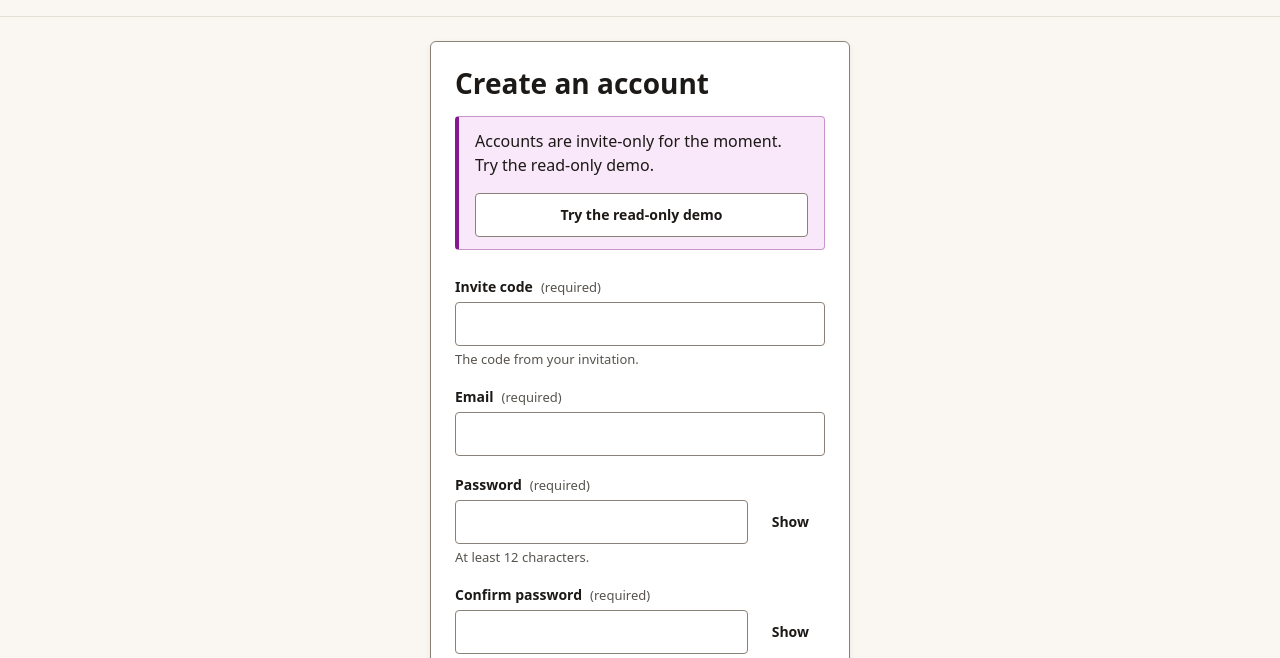
the sign-up page (T03 criterion 3, D10) › creates the account and lands on /account with its status
Type "fake-invite-0000-zz" into the field labelled "Invite code" at (640, 324), box x1=455 y1=302 x2=825 y2=346
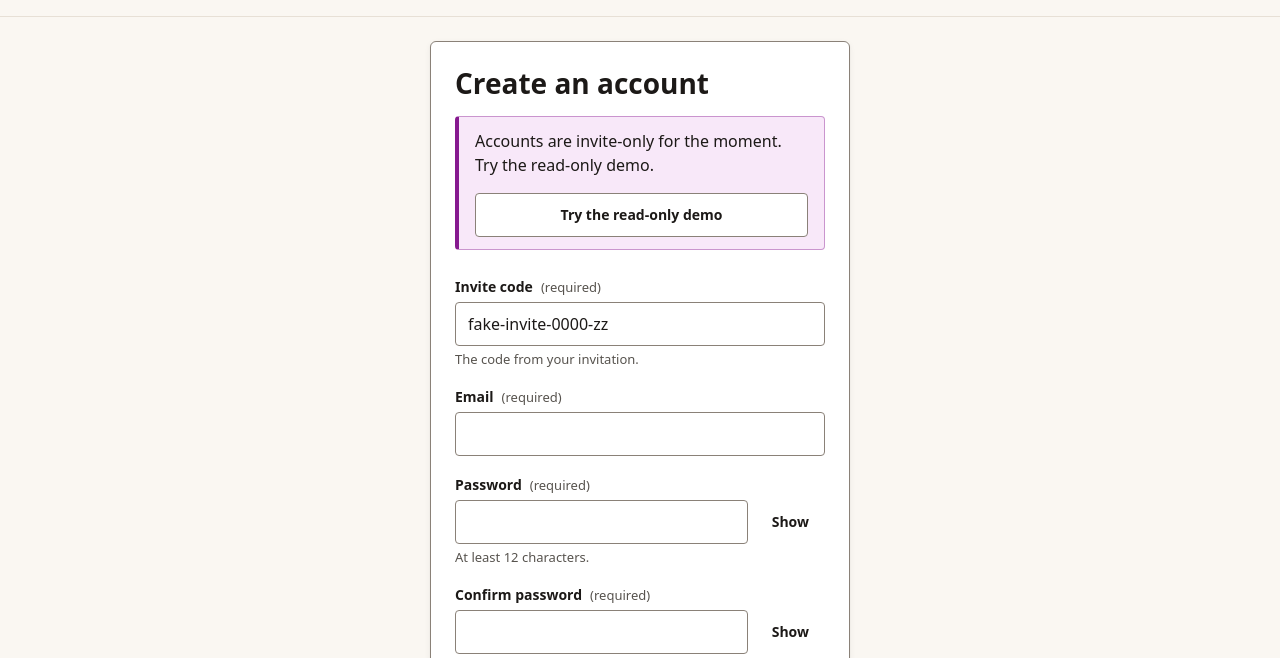
Type "newcomer@example.com" into the field labelled "Email" at (640, 434), box x1=455 y1=412 x2=825 y2=456
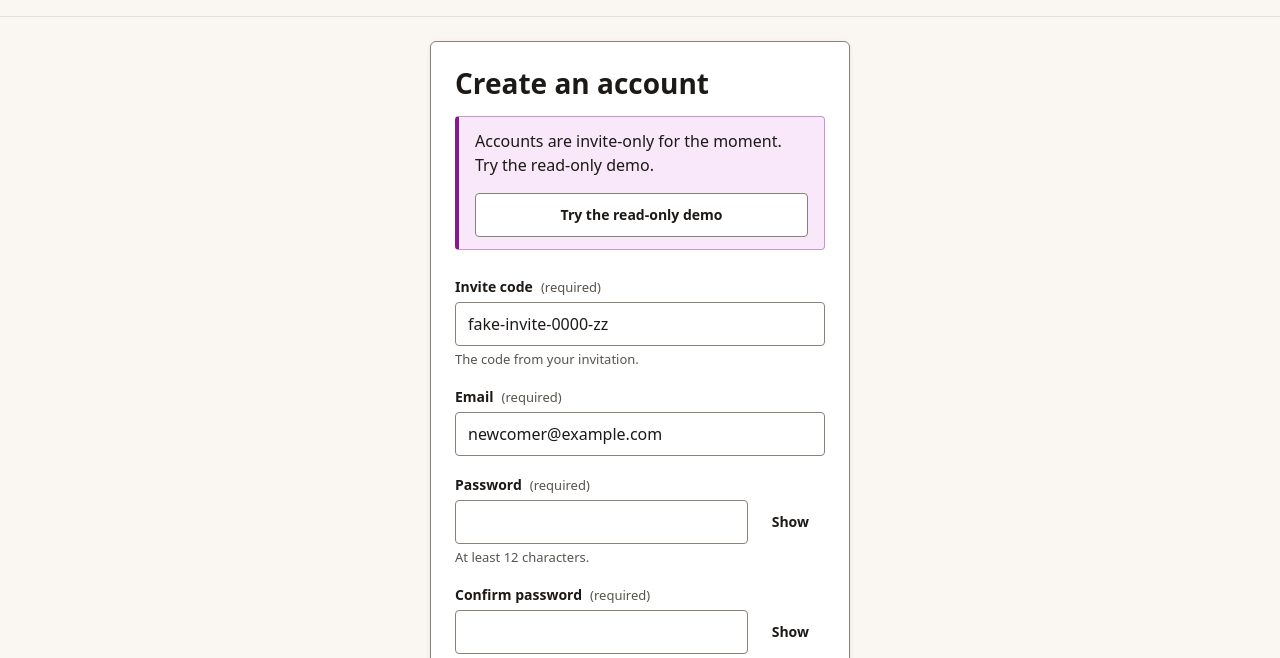
Type "fake-password-0000-ok" into the password field labelled "Password" at (601, 522), box x1=455 y1=500 x2=748 y2=544
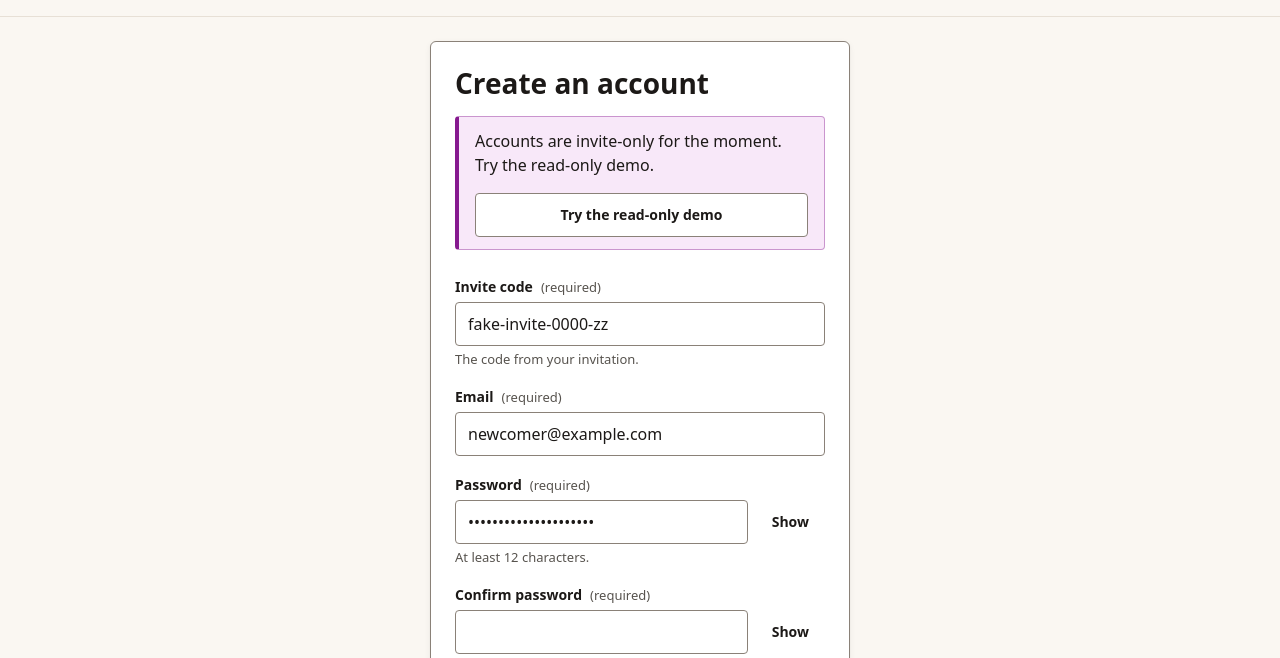
Type "fake-password-0000-ok" into the password field labelled "Confirm password" at (601, 632), box x1=455 y1=610 x2=748 y2=654
(page scrolled)
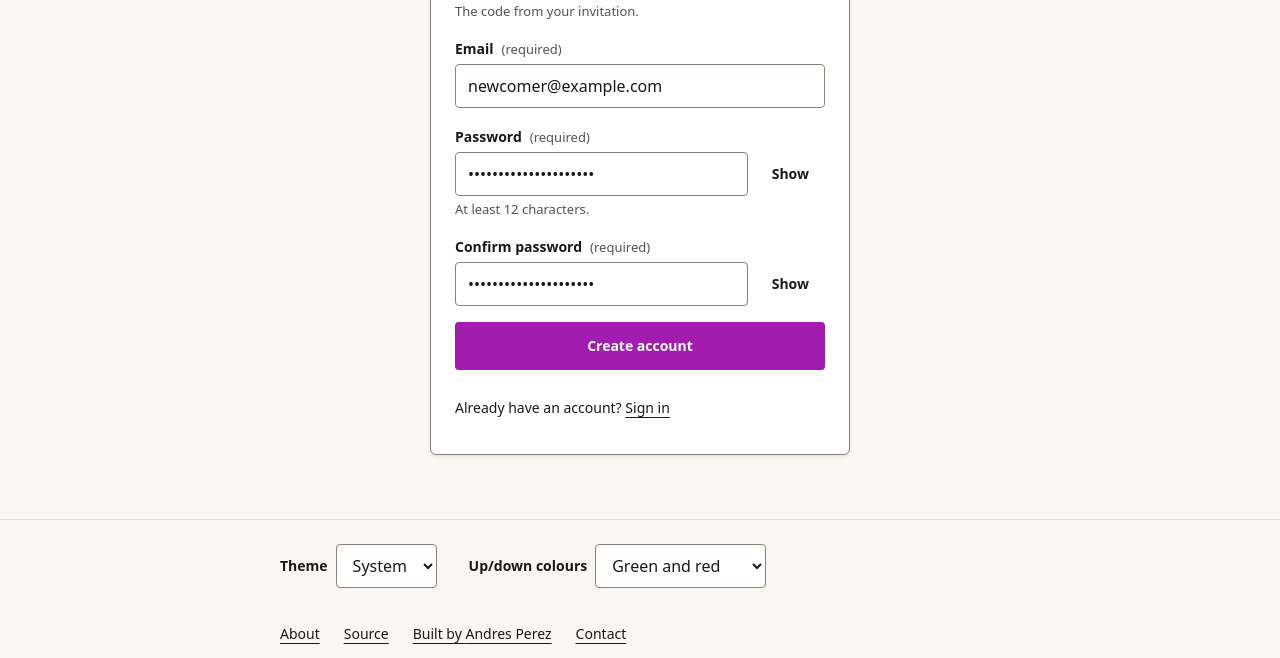
Click the button "Create account" at (640, 346), box x1=455 y1=322 x2=825 y2=370
(page scrolled)
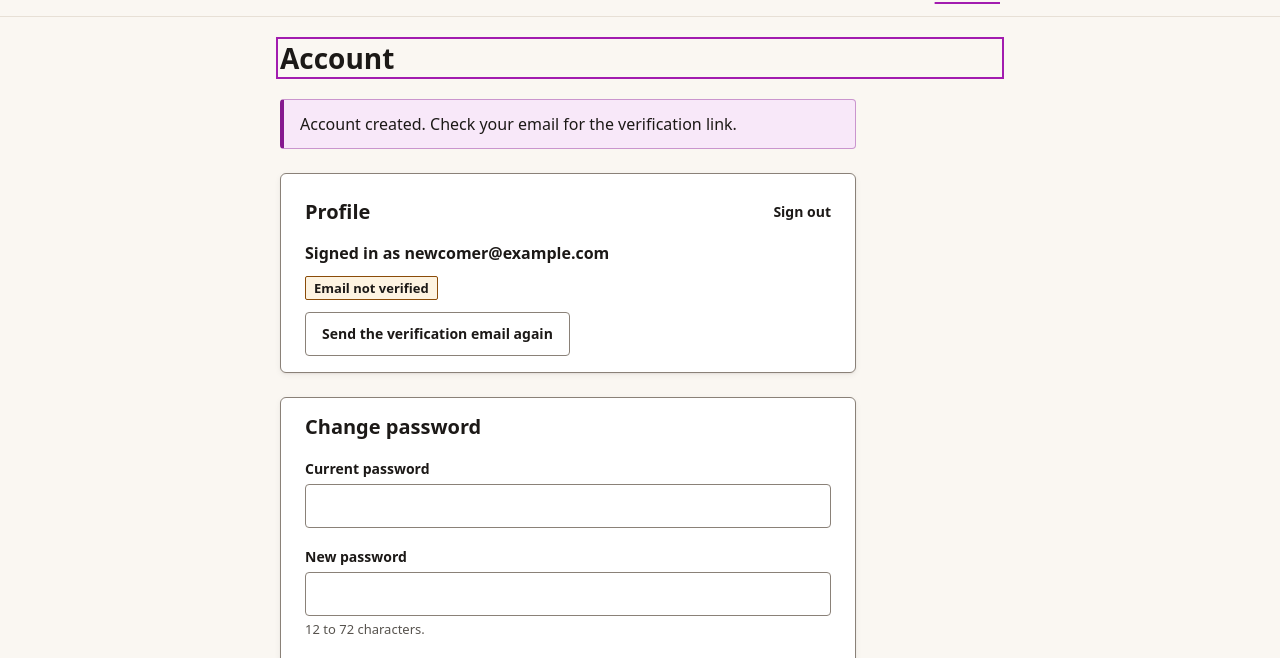
Now the text "Account created. Check your email for the verification link." is shown, box x1=280 y1=99 x2=856 y2=149
Now the text "Signed in as newcomer@example.com" is shown, box x1=305 y1=242 x2=609 y2=264
Now the text "Email not verified" is shown, box x1=305 y1=276 x2=438 y2=300
